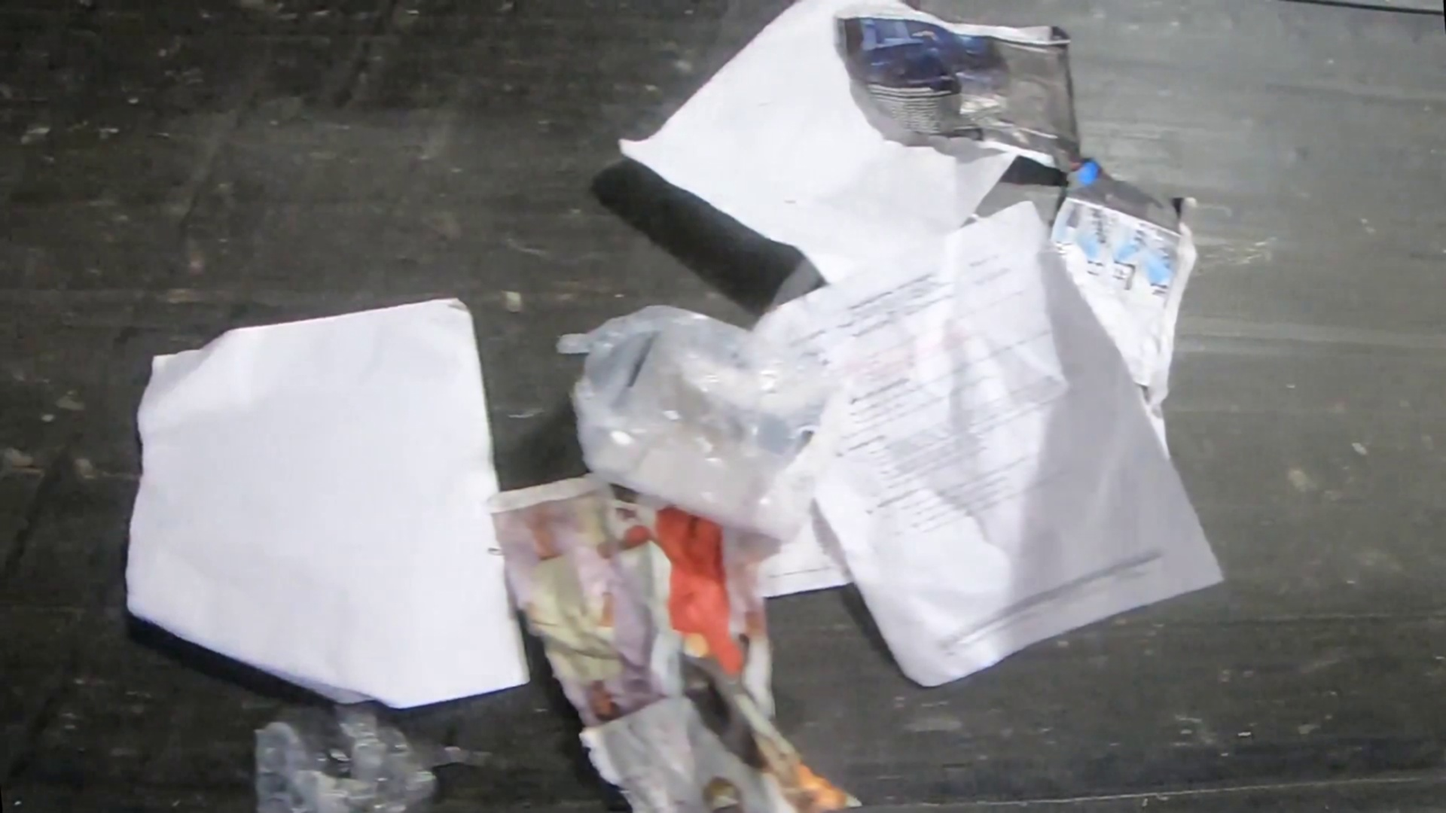plastic: (553, 304, 860, 546), (254, 699, 489, 812)
